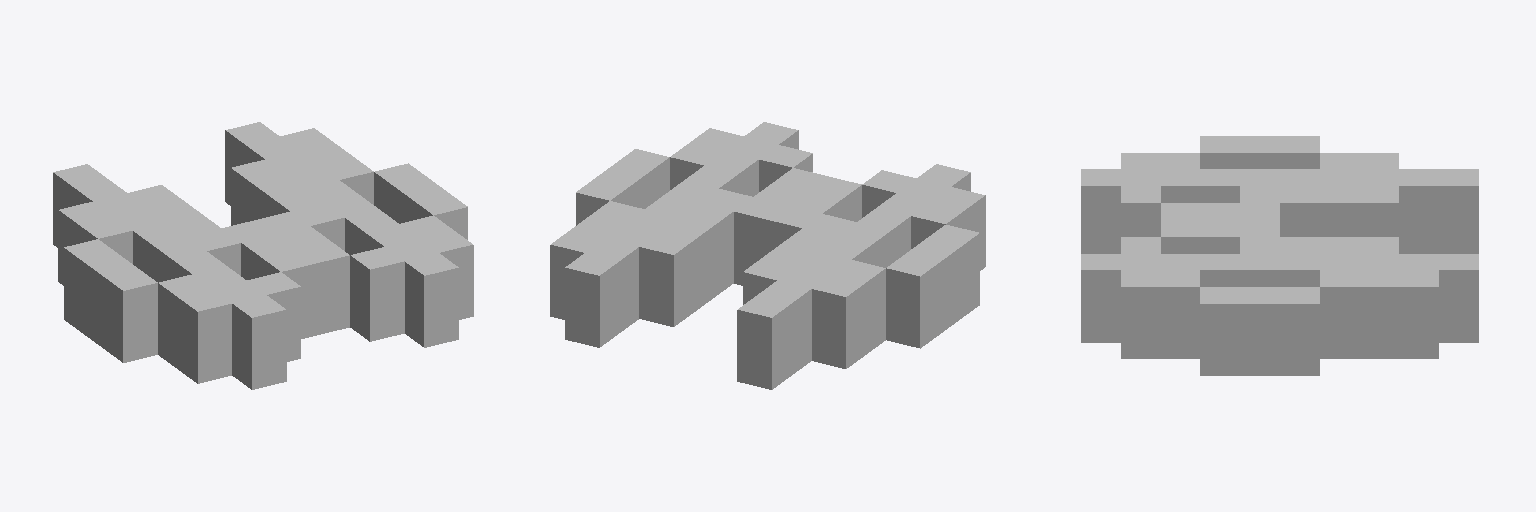
Rendered from Green Ship.obj.
3 renders of one model, left to right at view 1: azimuth 30°, elevation 25°; view 2: azimuth 150°, elevation 25°; view 3: azimuth 270°, elevation 25°, orthographic.
Visible parts, largest first — view 1: Green_Ship:Mesh; view 2: Green_Ship:Mesh; view 3: Green_Ship:Mesh.
Part boxes in pixels (bbox=[...]): Green_Ship:Mesh: bbox=[53, 122, 473, 389]; Green_Ship:Mesh: bbox=[550, 122, 985, 389]; Green_Ship:Mesh: bbox=[1081, 136, 1478, 375].
Bounding box in the file's own units: 1 × 0.2 × 1.